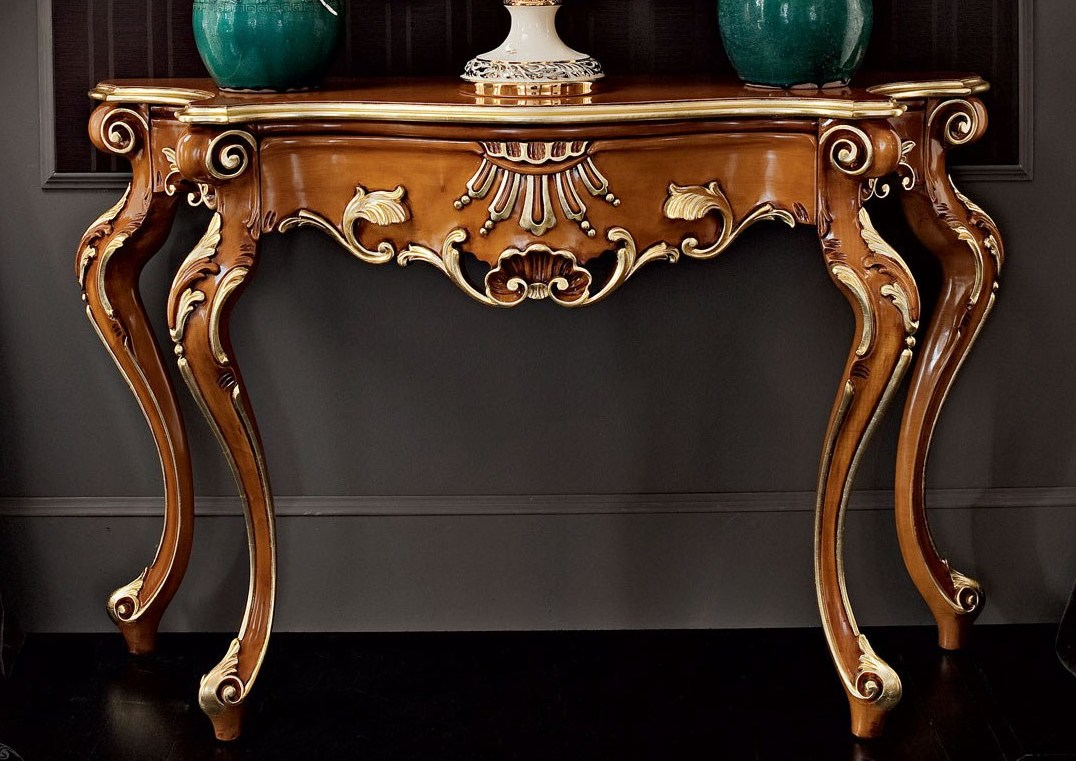Carving Table: (87, 75, 997, 727)
